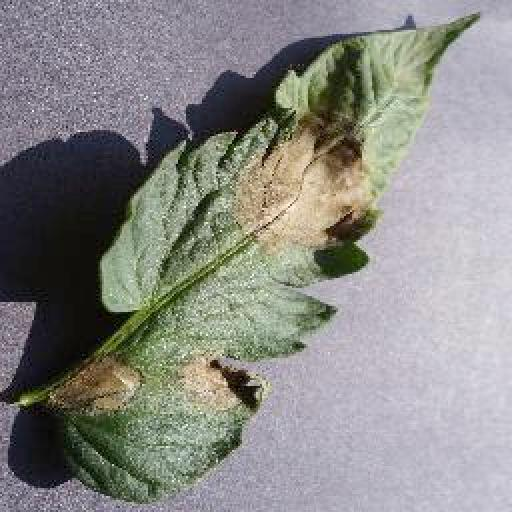disease_tomato: (52, 10, 490, 512)
